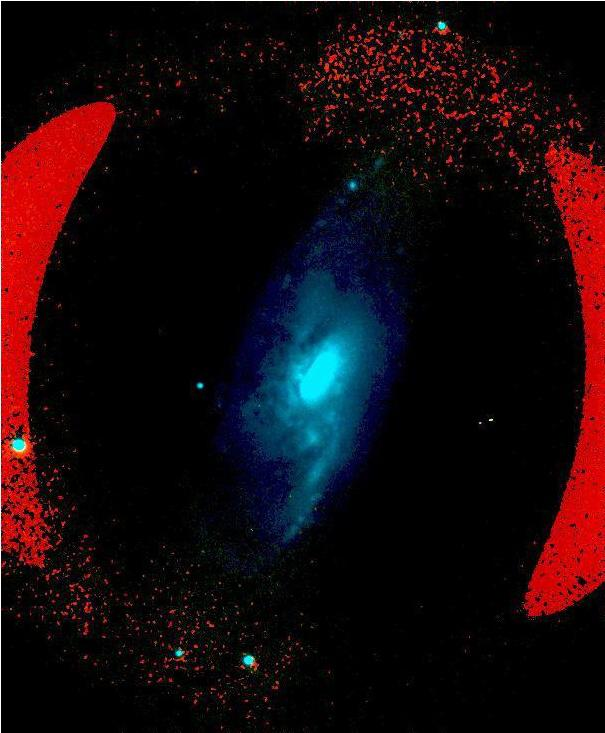star: (180, 157, 210, 187)
